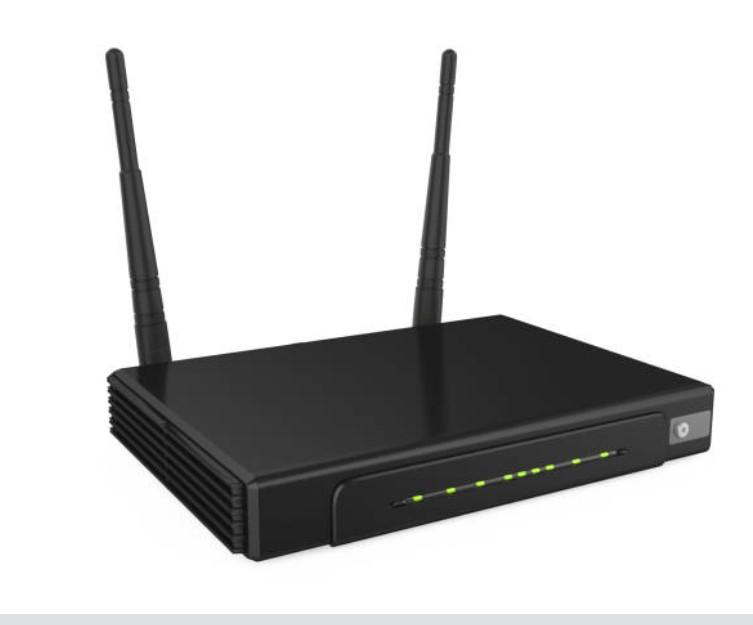Router: (106, 48, 715, 561)
